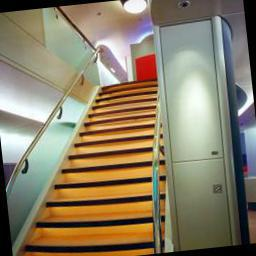Escaleras: (0, 52, 182, 256)
